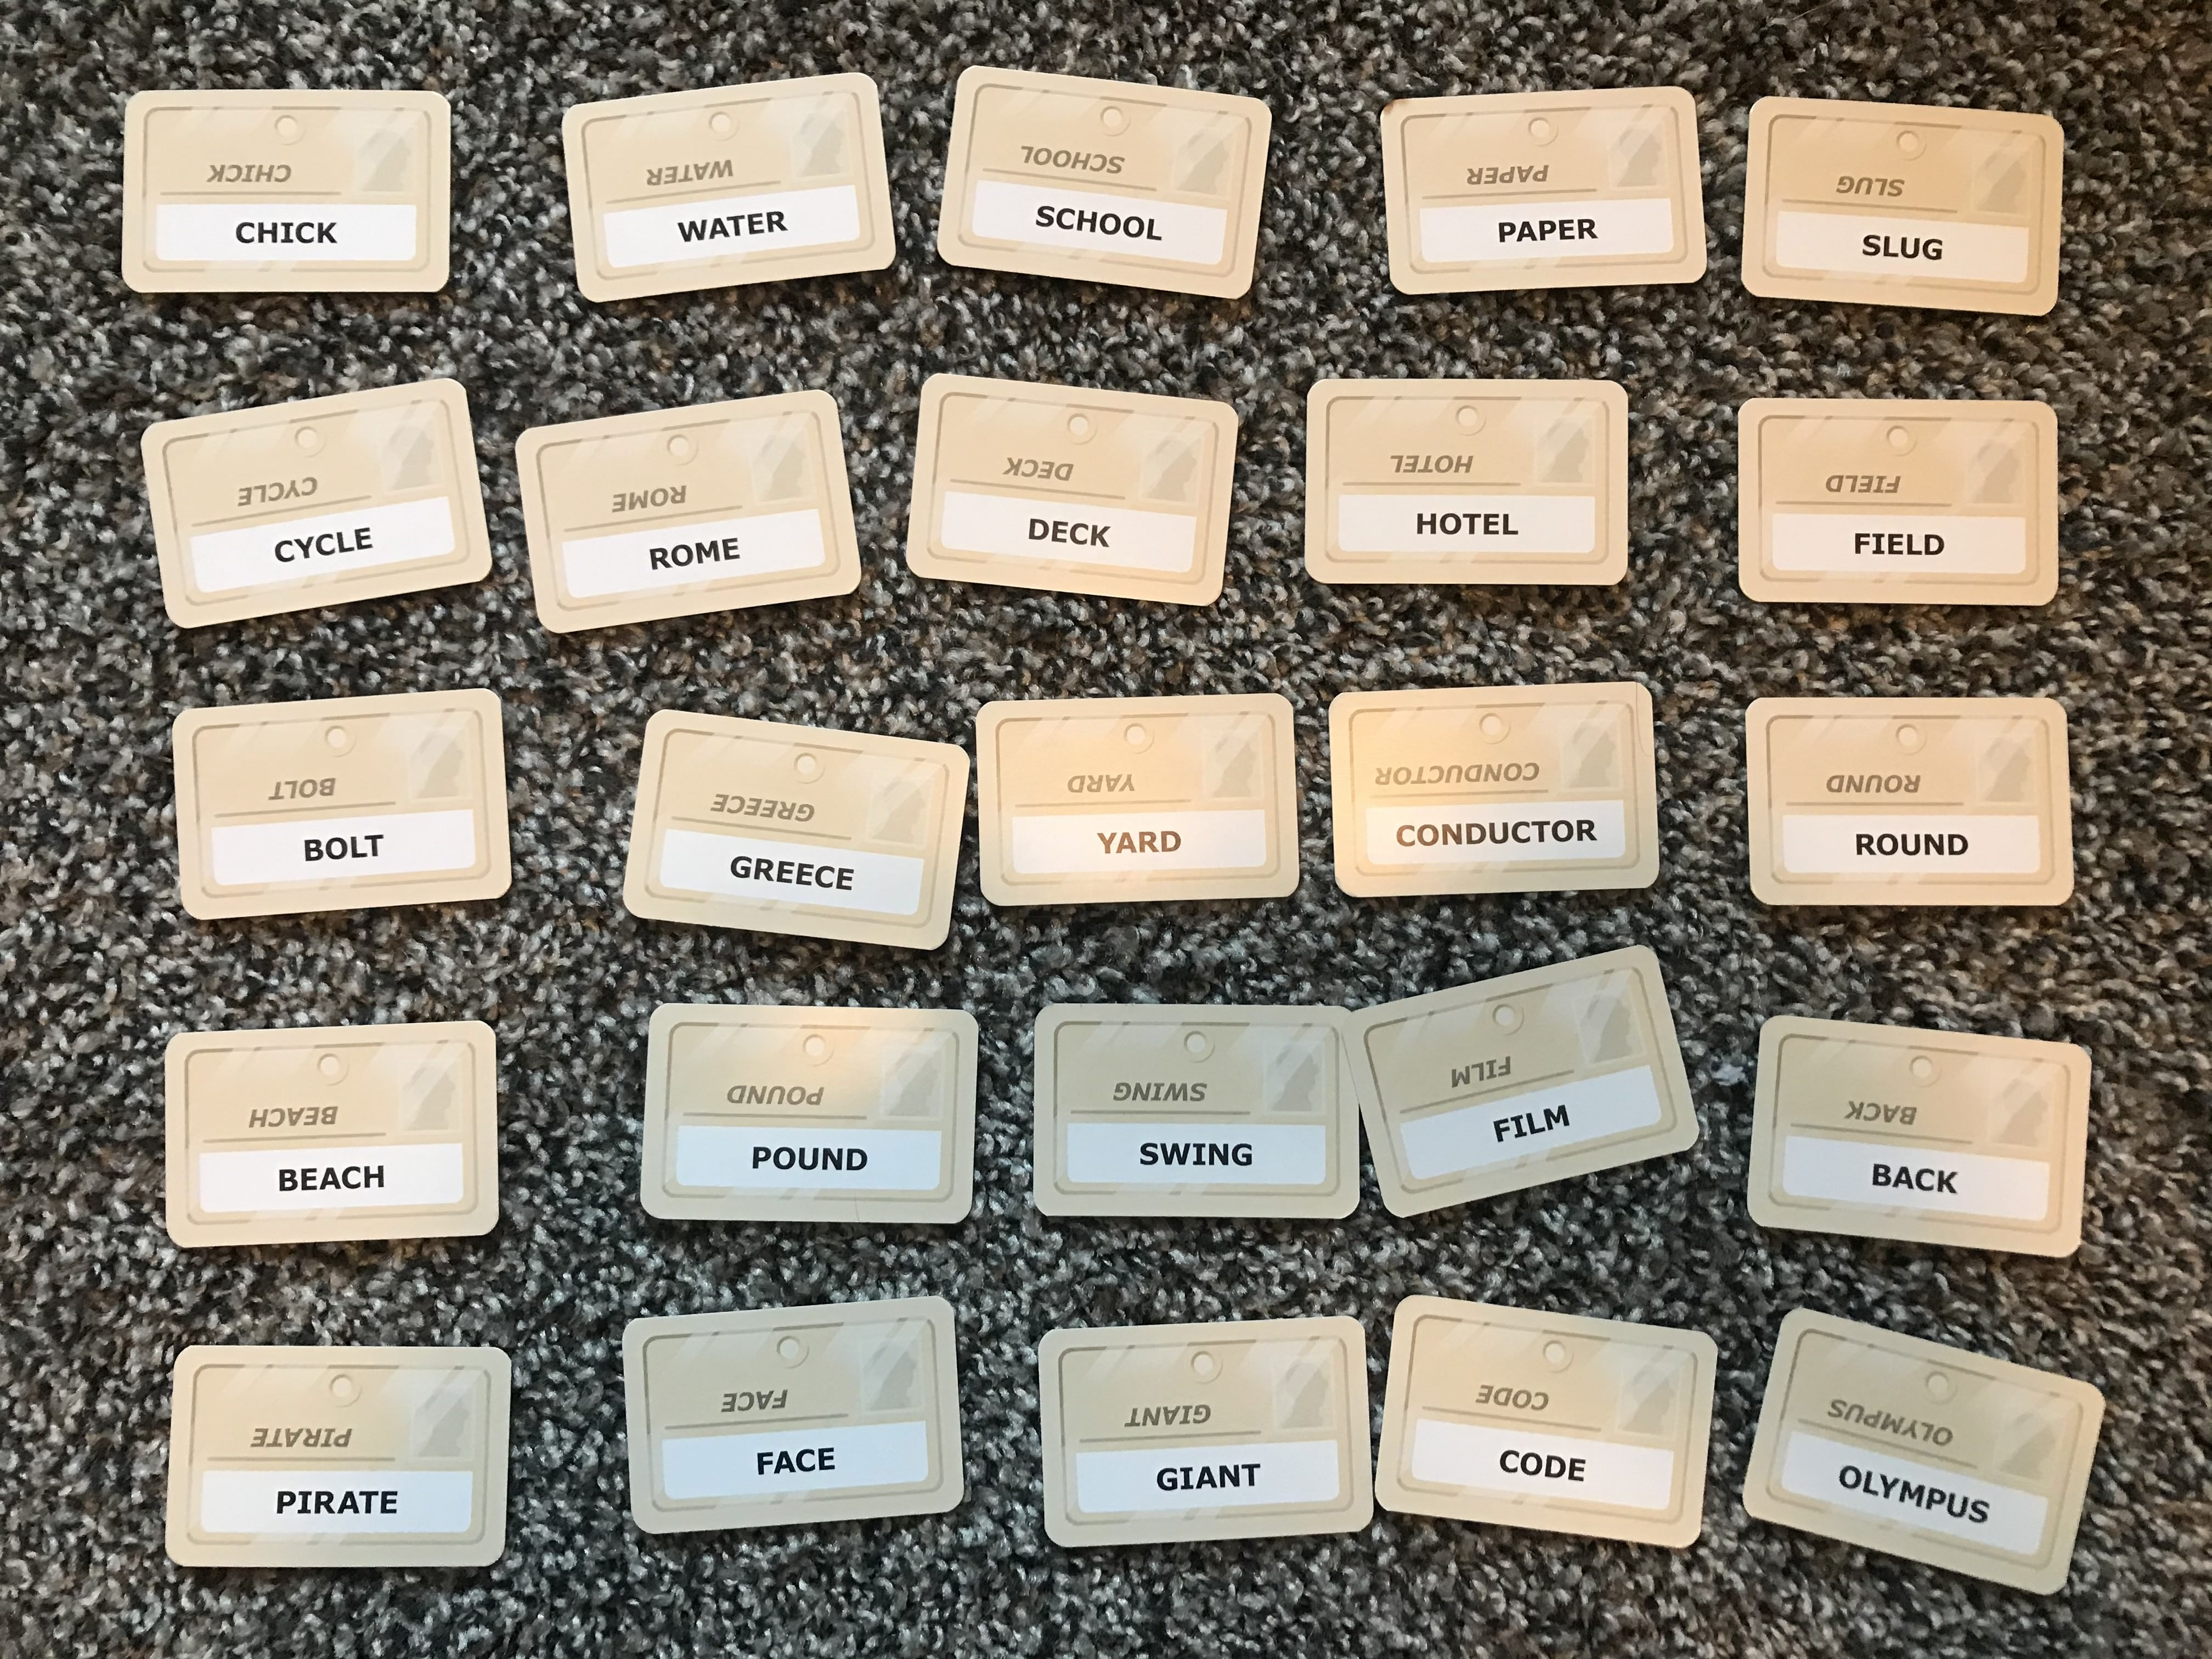A: (1888, 1162, 1918, 1208), (334, 1483, 361, 1525), (773, 1441, 796, 1488), (1514, 214, 1540, 253), (319, 1159, 341, 1201), (1195, 1459, 1217, 1499), (1116, 824, 1134, 863), (711, 213, 728, 247)
